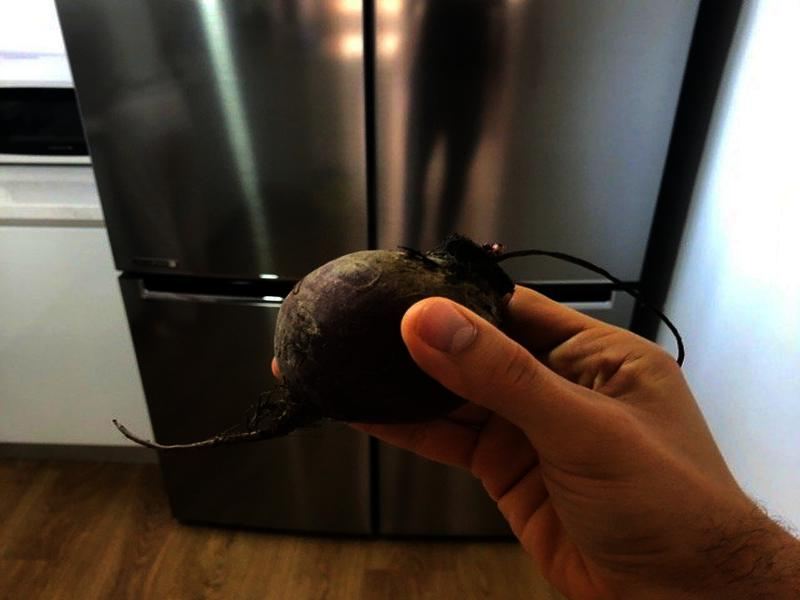Beet: (108, 238, 683, 451)
